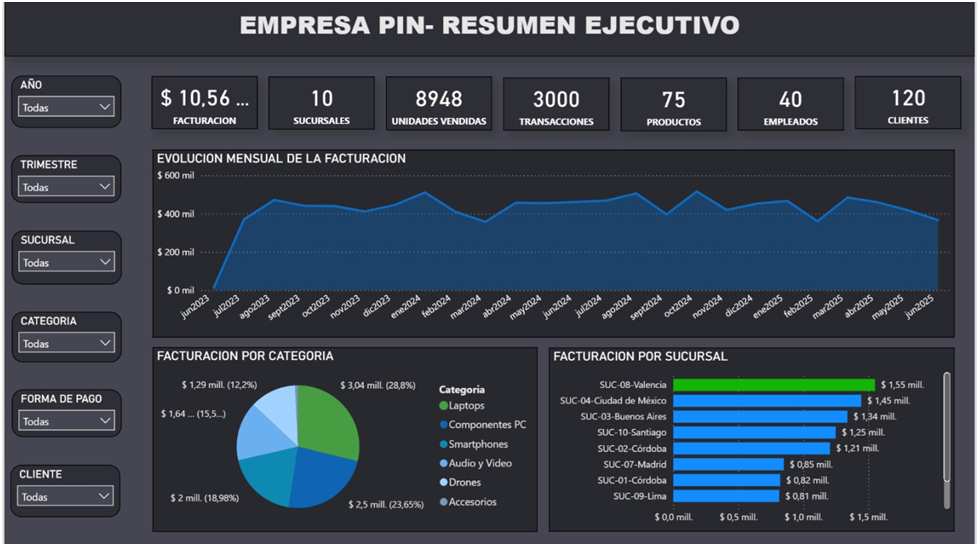

The page's visual inventory and layout, read from the dashboard file:
{"tool":"powerbi","page":{"name":"RESUMEN","canvas":[1280,720],"ordinal":0},"visuals":[{"type":"textbox","box":[0,0,1280,72.6],"z":0},{"type":"card","fields":{"Values":["TRANSACCIONES.TOTAL FACTURACION"]},"box":[194,98.8,140,70],"z":1000},{"type":"slicer","fields":{"Values":["TRANSACCIONES.SucursalID"]},"box":[10.1,303,145.1,70.6],"z":2000},{"type":"slicer","fields":{"Values":["CALENDARIO.AÑO"]},"box":[9.4,98.5,145,68.9],"z":3000},{"type":"slicer","fields":{"Values":["CALENDARIO.Trimestre"]},"box":[9.1,203.5,145.1,63.5],"z":4000},{"type":"slicer","fields":{"Values":["TRANSACCIONES.ClienteID"]},"box":[8.1,611.8,145.1,68.5],"z":5000},{"type":"slicer","fields":{"Values":["TRANSACCIONES.Forma_de_Pago"]},"box":[10.1,512.2,145.1,63.5],"z":6000},{"type":"slicer","fields":{"Values":["PRODUCTOS.Categoria"]},"box":[10.1,409.6,145.1,66.5],"z":7000},{"type":"card","fields":{"Values":["CLIENTES.CLIENTES"]},"box":[1121.8,98.8,140.1,69.5],"z":8000},{"type":"card","fields":{"Values":["EMPLEADOS.EMPLEADOS ACTIVOS"]},"box":[967.1,100.8,140.1,69.5],"z":9000},{"type":"card","fields":{"Values":["PRODUCTOS.PRODUCTOS COMERCIALIZADOS"]},"box":[812.5,100.8,140.1,70.6],"z":10000},{"type":"card","fields":{"Values":["TRANSACCIONES.CANT DE TRANSACCIONES"]},"box":[657.8,100.8,140.1,69.5],"z":11000},{"type":"card","fields":{"Values":["Sum(TRANSACCIONES.Cantidad)"]},"box":[503.2,99.8,140.1,70.6],"z":12000},{"type":"card","fields":{"Values":["SUCURSALES.SUCURSALES ACTIVAS"]},"box":[348.5,99.8,140.1,69.5],"z":13000},{"type":"lineChart","title":"EVOLUCION MENSUAL DE LA FACTURACION","fields":{"Category":["CALENDARIO.MES-AÑO"],"Y":["Sum(TRANSACCIONES.total_transacciones)"]},"box":[195.5,196.2,1058,248.5],"z":14000},{"type":"pieChart","title":"FACTURACION POR CATEGORIA","fields":{"Category":["PRODUCTOS.Categoria"],"Y":["Sum(TRANSACCIONES.total_transacciones)"]},"box":[195.5,456.6,508,243.9],"z":15000},{"type":"barChart","title":"FACTURACION POR SUCURSAL","fields":{"Category":["SUCURSALES.sucursal"],"Y":["Sum(TRANSACCIONES.total_transacciones)"]},"box":[718,457,535,243],"z":16000}]}

Visuals, with their boxes in screenshot pixels (x1, y1, x2, y2), scaled from the page's 1280x720 canvas onto the 979x546 screenshot:
textbox: bbox=(0, 0, 978, 55)
card - TRANSACCIONES.TOTAL FACTURACION: bbox=(148, 75, 255, 128)
slicer - TRANSACCIONES.SucursalID: bbox=(8, 230, 119, 283)
slicer - CALENDARIO.AÑO: bbox=(7, 75, 118, 127)
slicer - CALENDARIO.Trimestre: bbox=(7, 154, 118, 202)
slicer - TRANSACCIONES.ClienteID: bbox=(6, 464, 117, 516)
slicer - TRANSACCIONES.Forma_de_Pago: bbox=(8, 388, 119, 437)
slicer - PRODUCTOS.Categoria: bbox=(8, 311, 119, 361)
card - CLIENTES.CLIENTES: bbox=(858, 75, 965, 128)
card - EMPLEADOS.EMPLEADOS ACTIVOS: bbox=(740, 76, 847, 129)
card - PRODUCTOS.PRODUCTOS COMERCIALIZADOS: bbox=(621, 76, 729, 130)
card - TRANSACCIONES.CANT DE TRANSACCIONES: bbox=(503, 76, 610, 129)
card - Sum(TRANSACCIONES.Cantidad): bbox=(385, 76, 492, 129)
card - SUCURSALES.SUCURSALES ACTIVAS: bbox=(267, 76, 374, 128)
"EVOLUCION MENSUAL DE LA FACTURACION" lineChart: bbox=(150, 149, 959, 337)
"FACTURACION POR CATEGORIA" pieChart: bbox=(150, 346, 538, 531)
"FACTURACION POR SUCURSAL" barChart: bbox=(549, 347, 958, 531)
